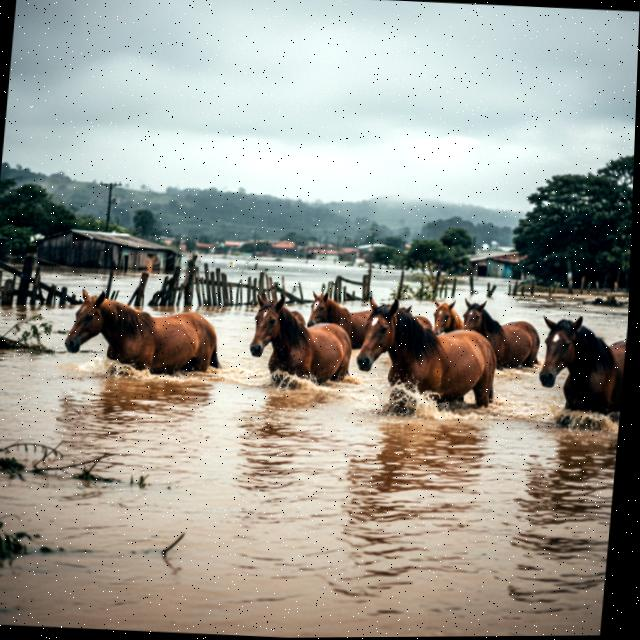horse: (345, 292, 510, 417), (54, 285, 232, 383), (239, 295, 356, 393), (530, 308, 628, 419), (452, 294, 549, 374), (304, 289, 412, 351), (427, 292, 466, 334)
